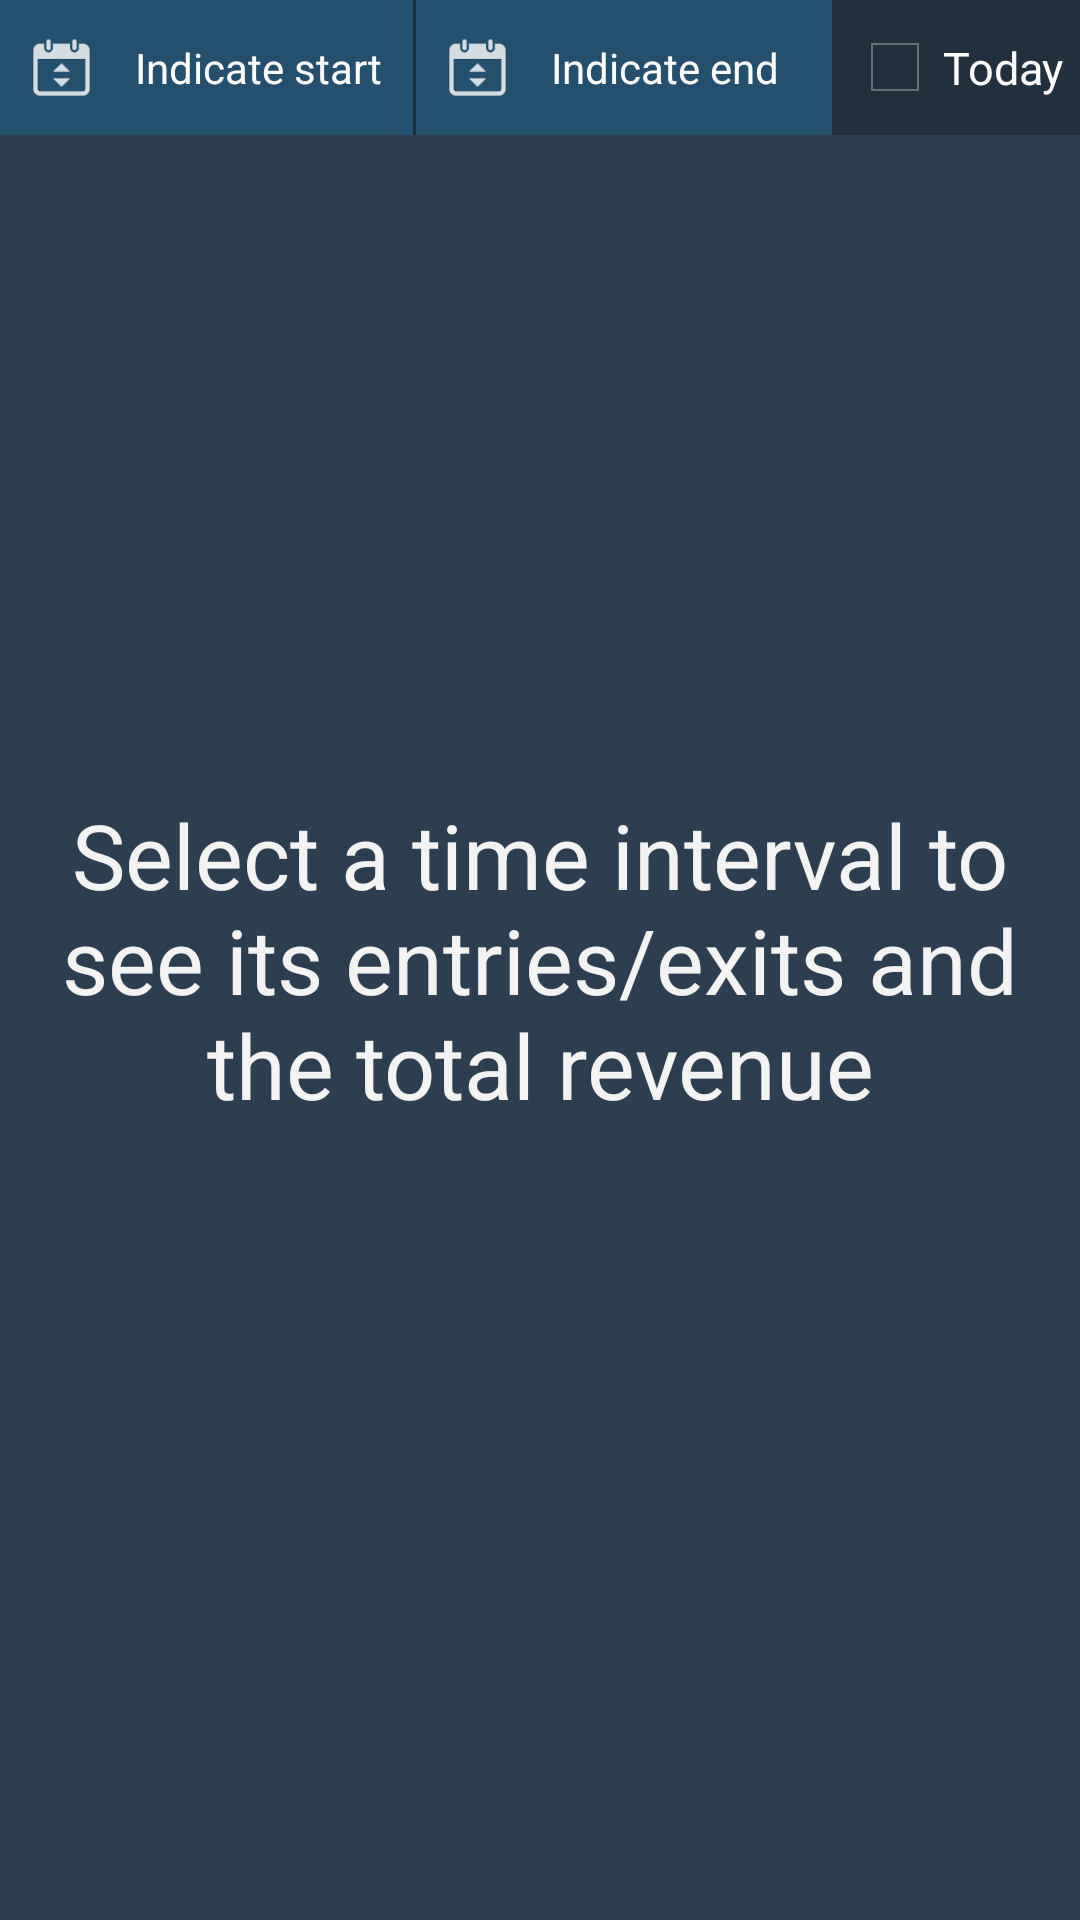

Where to tap for icons on this 1080w x 1920h app screen, as (x=x, y=y):
date: (x=61, y=67), (x=477, y=67)
